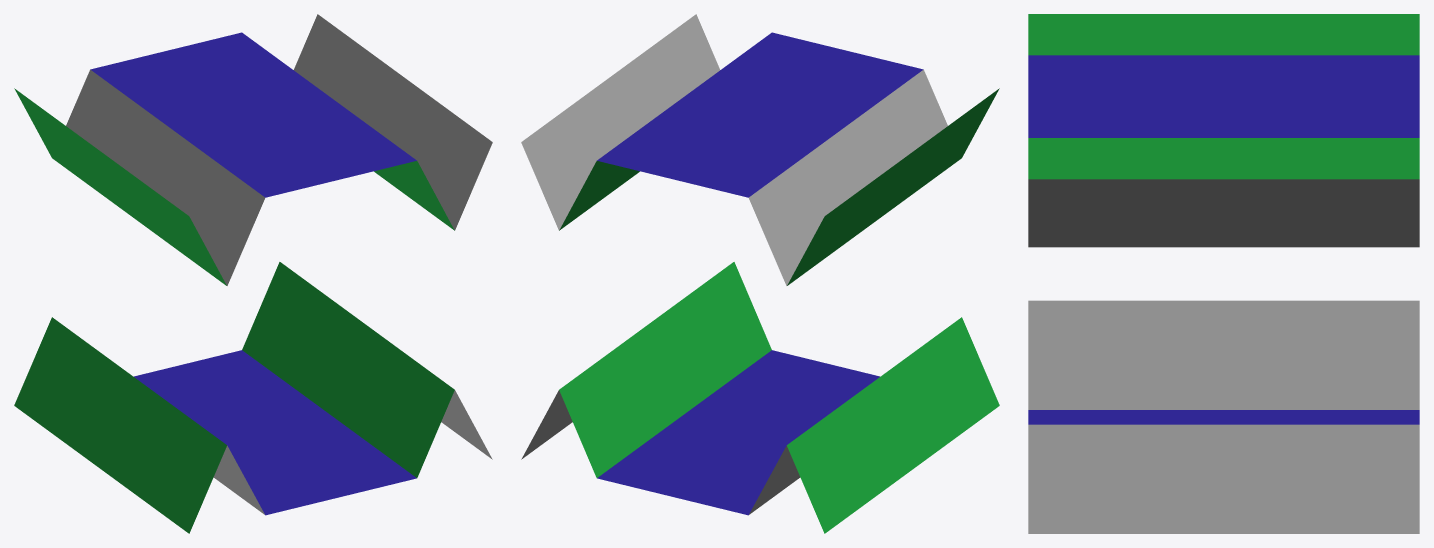
The model's file is booster.obj.
3 renders of one model, left to right at view 1: azimuth 30°, elevation 25°; view 2: azimuth 150°, elevation 25°; view 3: azimuth 270°, elevation 25°, orthographic. The views are drawn at different scales.
Visible parts, largest first — view 1: Cube.049; view 2: Cube.049; view 3: Cube.049.
Part boxes in pixels (x1,y1,x2,y2): Cube.049: (14,14,492,533); Cube.049: (521,14,999,533); Cube.049: (1028,14,1419,533).
Bounding box in the file's own units: 80 × 80 × 80.
